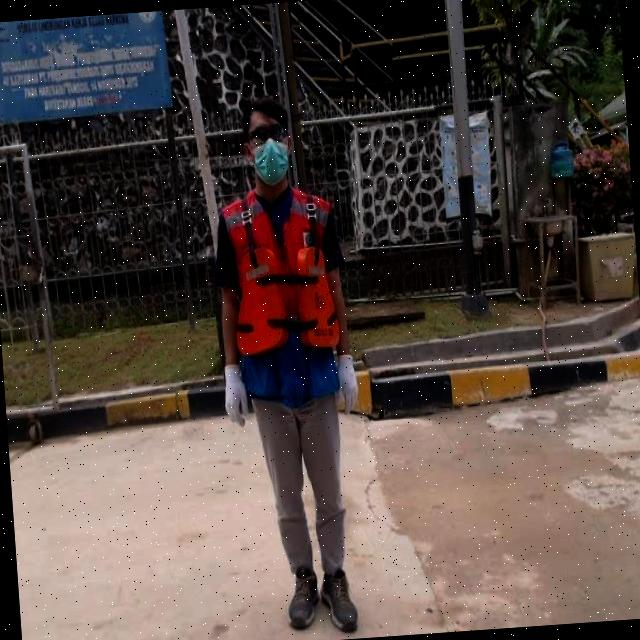vest: (216, 184, 342, 406)
